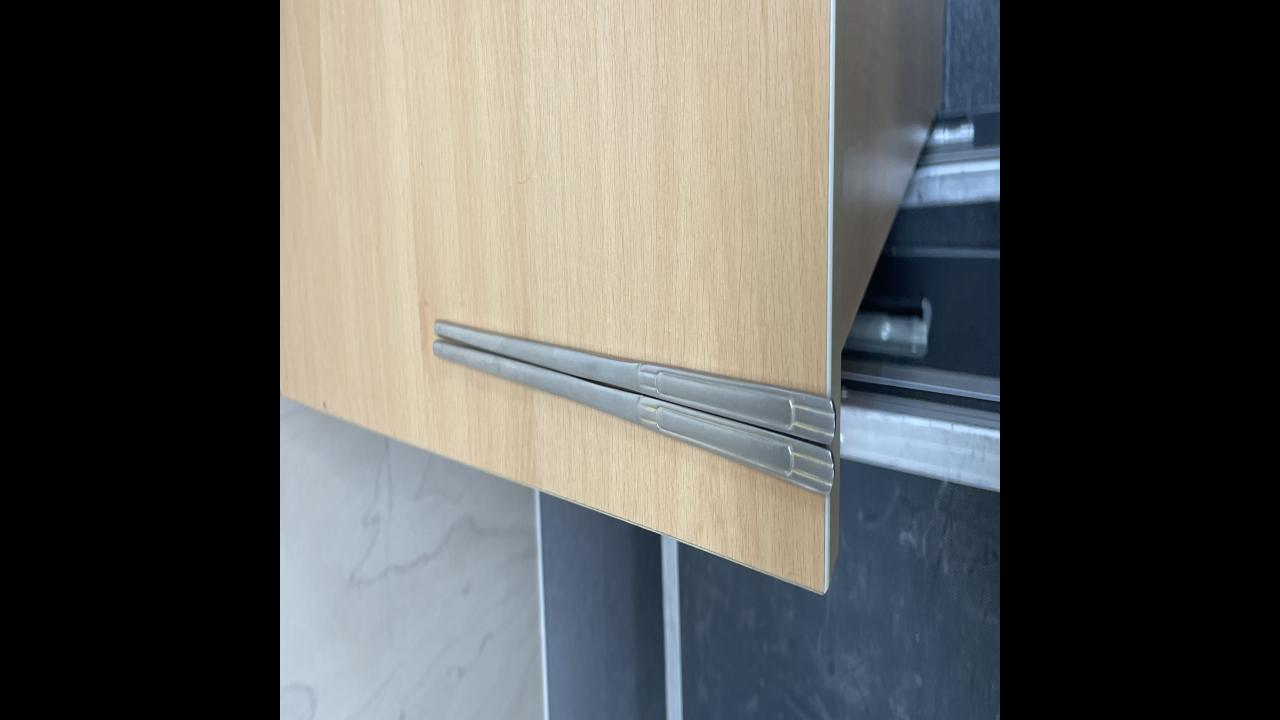chopstick: (433, 318, 838, 494)
